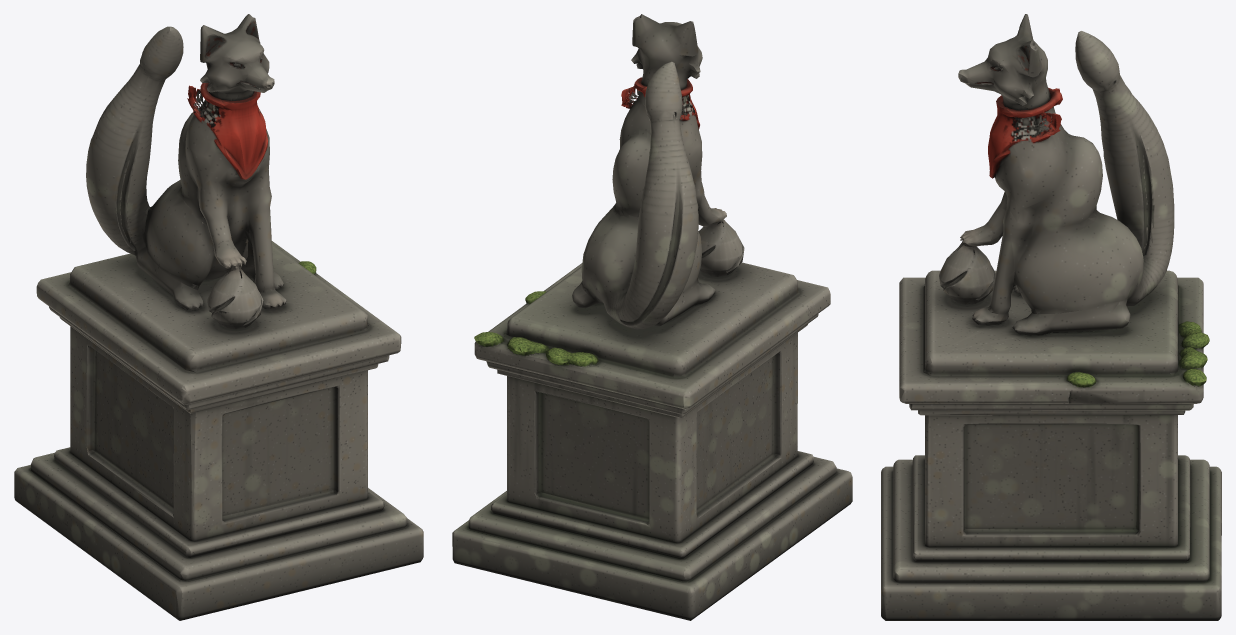
The model's file is kitsune_jewel.glb.
3 views of the same model, side by side, from view 1: azimuth 30°, elevation 25°; view 2: azimuth 150°, elevation 25°; view 3: azimuth 270°, elevation 25° (orthographic). The views are drawn at different scales.
Parts seen in each view (by area): view 1: kitsune_jewel_LOD0; view 2: kitsune_jewel_LOD0; view 3: kitsune_jewel_LOD0.
Part boxes in pixels (box(x1,y1,x2,y2)): kitsune_jewel_LOD0: box(14, 14, 423, 620); kitsune_jewel_LOD0: box(452, 14, 852, 620); kitsune_jewel_LOD0: box(881, 14, 1221, 620).
Size of what is drawn, in the model's own units: 1.2 by 2.46 by 1.4.
Materials: 3 (3 with a texture image).
